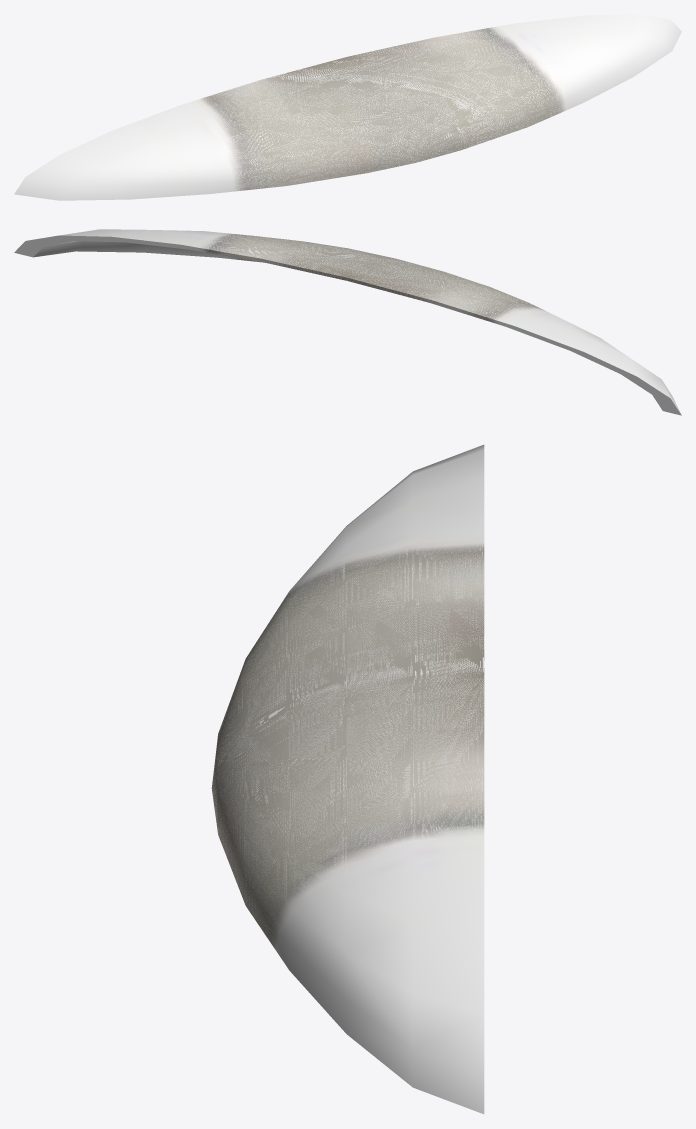
Rendered from original-37.obj.
The picture shows the model from 3 angles, top to bottom: view 1: azimuth 30°, elevation 25°; view 2: azimuth 150°, elevation 25°; view 3: azimuth 270°, elevation 25°; orthographic projection. The views are drawn at different scales.
Visible parts, largest first — view 1: HP135_DF1/HP135_DF/mesh25/mesh25-geometry#mesh25-geometry; view 2: HP135_DF1/HP135_DF/mesh25/mesh25-geometry#mesh25-geometry; view 3: HP135_DF1/HP135_DF/mesh25/mesh25-geometry#mesh25-geometry.
Boxes of the visible parts, x1,y1,x2,y2 form: HP135_DF1/HP135_DF/mesh25/mesh25-geometry#mesh25-geometry: [14, 14, 681, 200]; HP135_DF1/HP135_DF/mesh25/mesh25-geometry#mesh25-geometry: [14, 229, 681, 415]; HP135_DF1/HP135_DF/mesh25/mesh25-geometry#mesh25-geometry: [211, 444, 484, 1114].
Size of the model in its own units: 0.1776 by 0.0143 by 0.0314.
